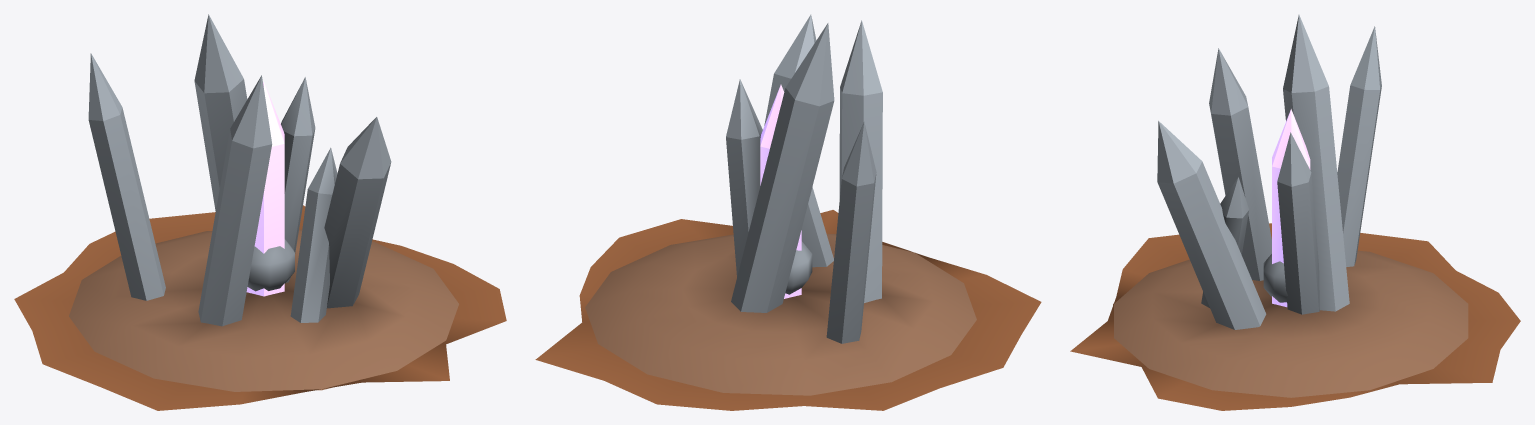
File: poi_anomaly.glb
3 views of the same model, side by side, from view 1: azimuth 30°, elevation 25°; view 2: azimuth 150°, elevation 25°; view 3: azimuth 270°, elevation 25° (orthographic). The views are drawn at different scales.
Visible parts, largest first — view 1: Base, Lights; view 2: Base, Lights; view 3: Base, Lights.
Boxes of the visible parts, left/top/right/bottom form: Base: left=14, top=14, right=506, bottom=410; Lights: left=246, top=82, right=284, bottom=296; Base: left=535, top=14, right=1041, bottom=410; Lights: left=760, top=84, right=801, bottom=298; Base: left=1070, top=14, right=1520, bottom=410; Lights: left=1272, top=109, right=1310, bottom=307.
Size of the model in its own units: 8.86 by 6.17 by 8.87.
